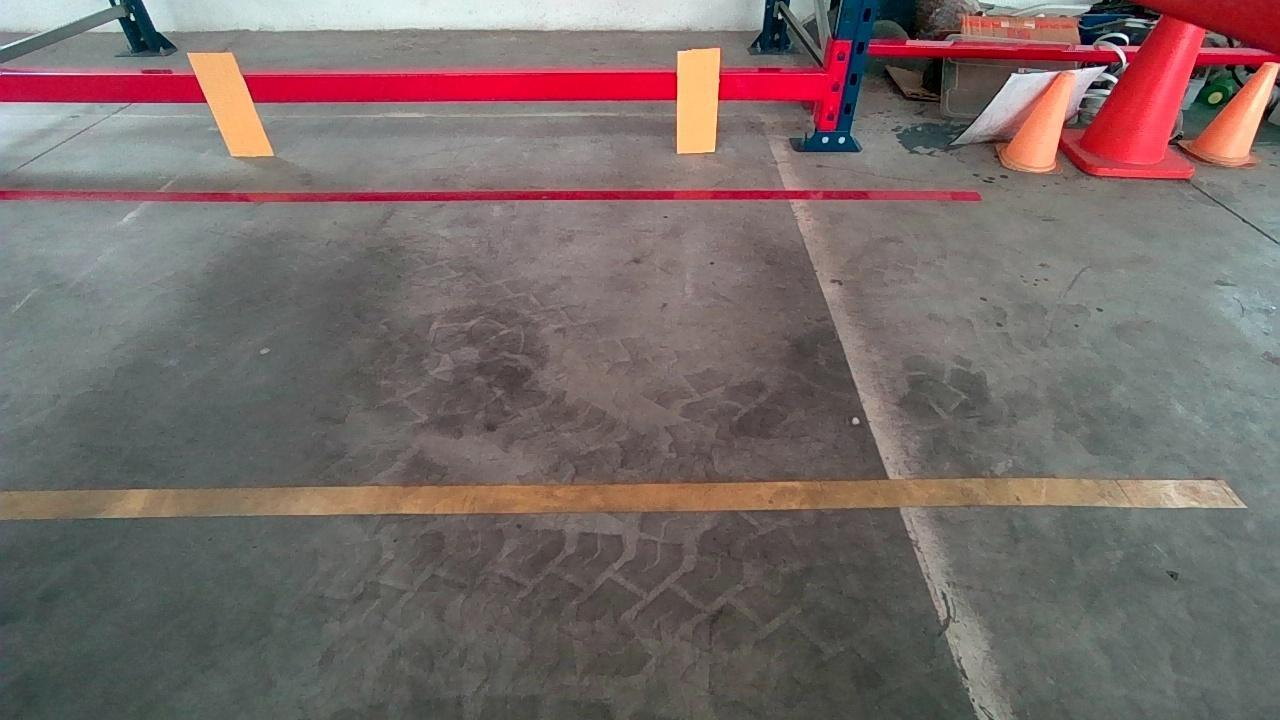h_rack: (1, 65, 818, 100)
orange_strip: (187, 51, 273, 155), (677, 49, 720, 151)
red_line: (7, 182, 984, 212)
yellow_line: (14, 473, 1245, 520)
